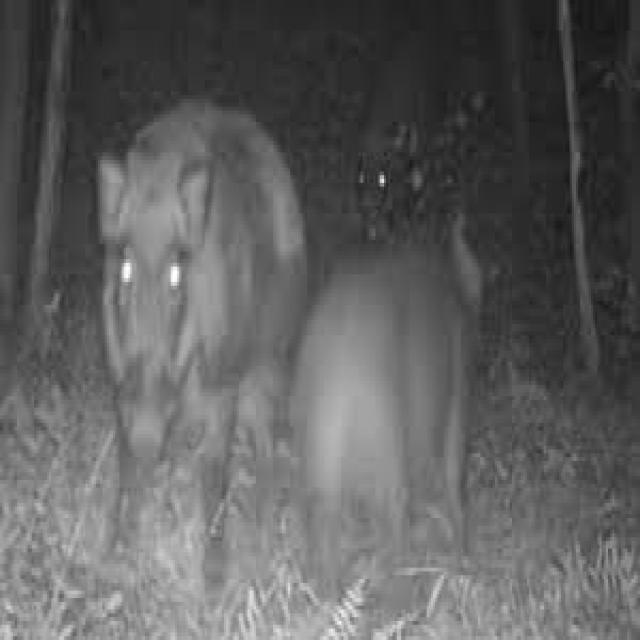boar: (73, 41, 322, 538)
